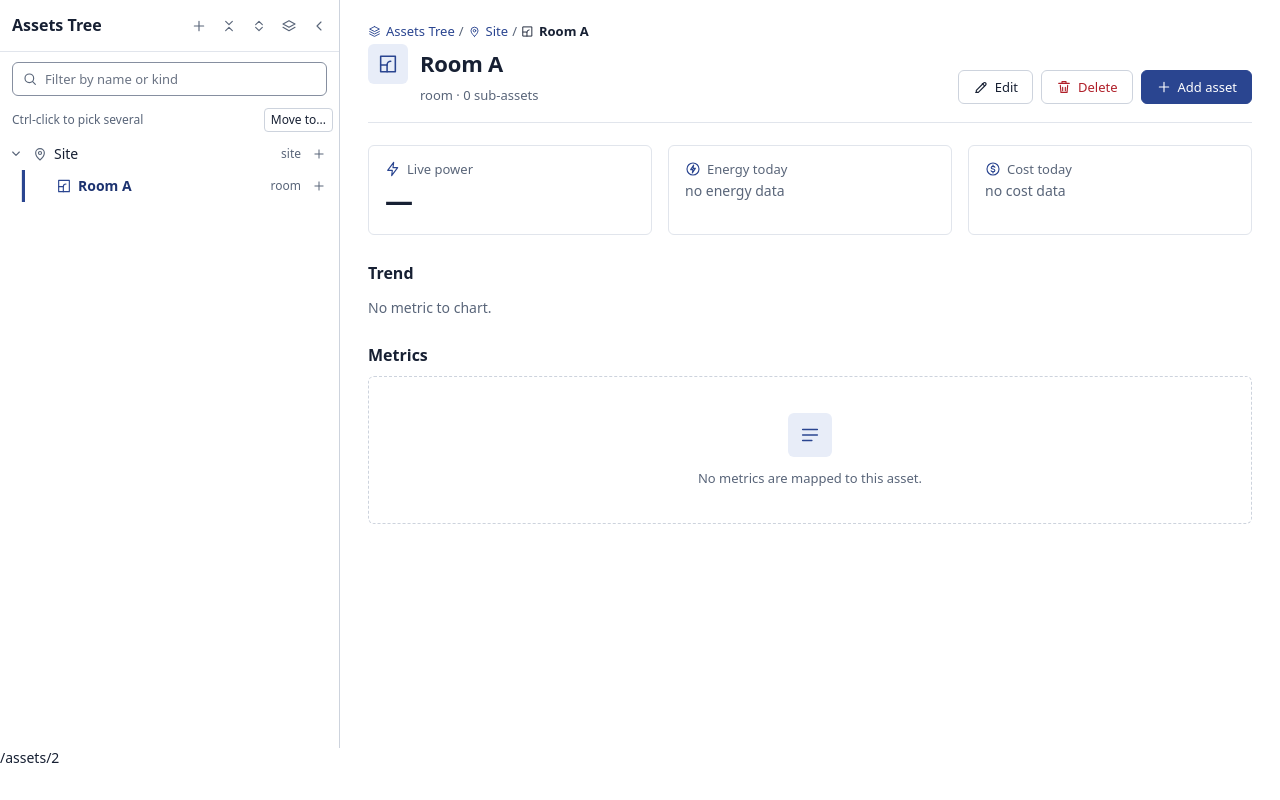
AssetsPage › dialogs and the + on each branch › the Add asset button opens the dialog with the selected asset as the parent
What coordinates should you click on to do the following:
click the button "Add asset"
I would click on:
 (1196, 87)
Its box is [1140,70,1252,104].
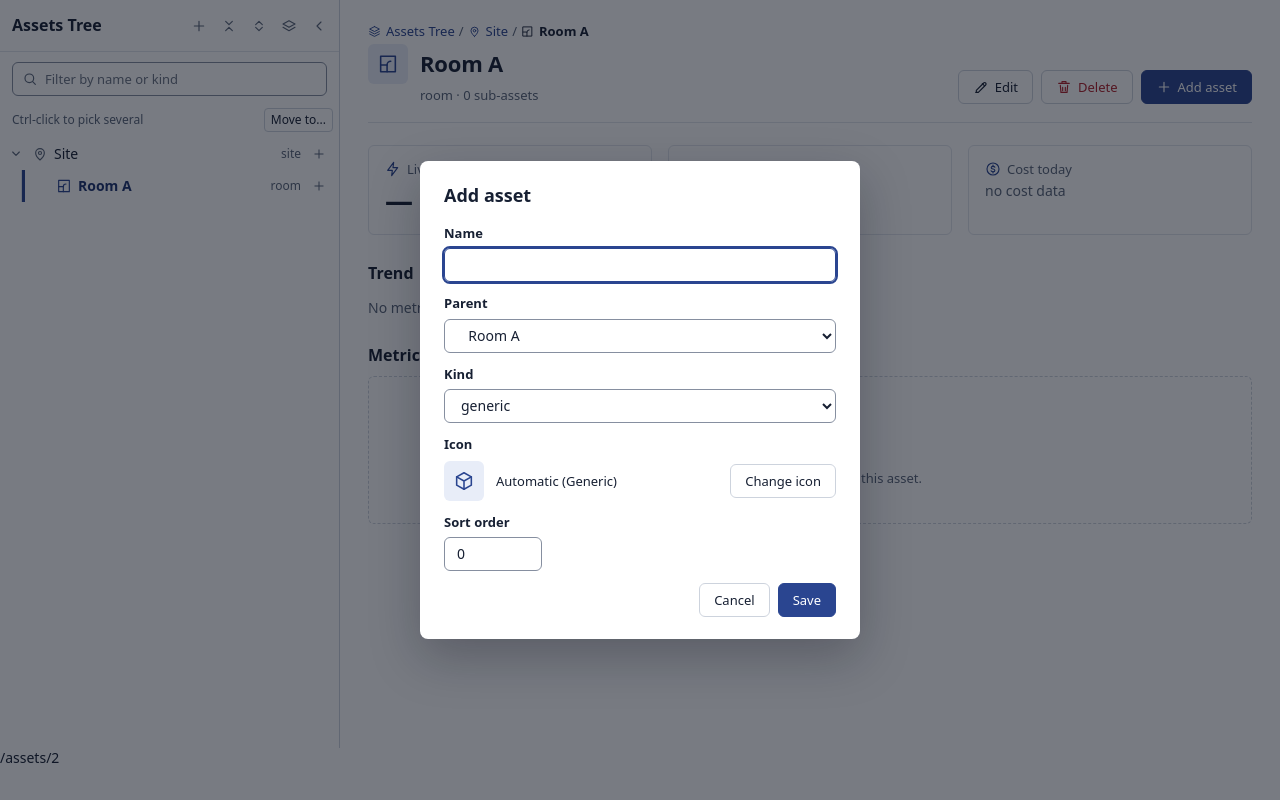
Check: the dropdown labelled "Parent" shows "  Room A", box [444,318,836,352]
